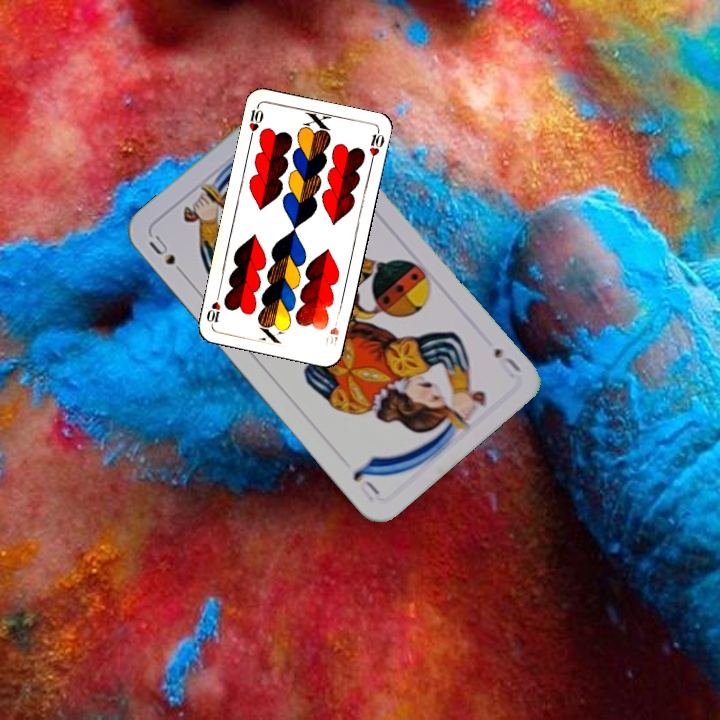H10: (245, 102, 266, 142), (321, 312, 341, 349)
SU: (144, 230, 190, 281), (489, 343, 524, 381)
